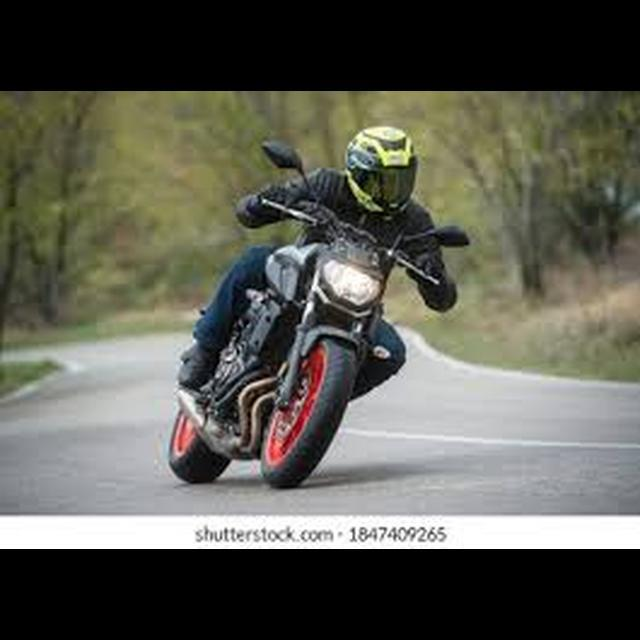motorcycle: (167, 137, 473, 492)
